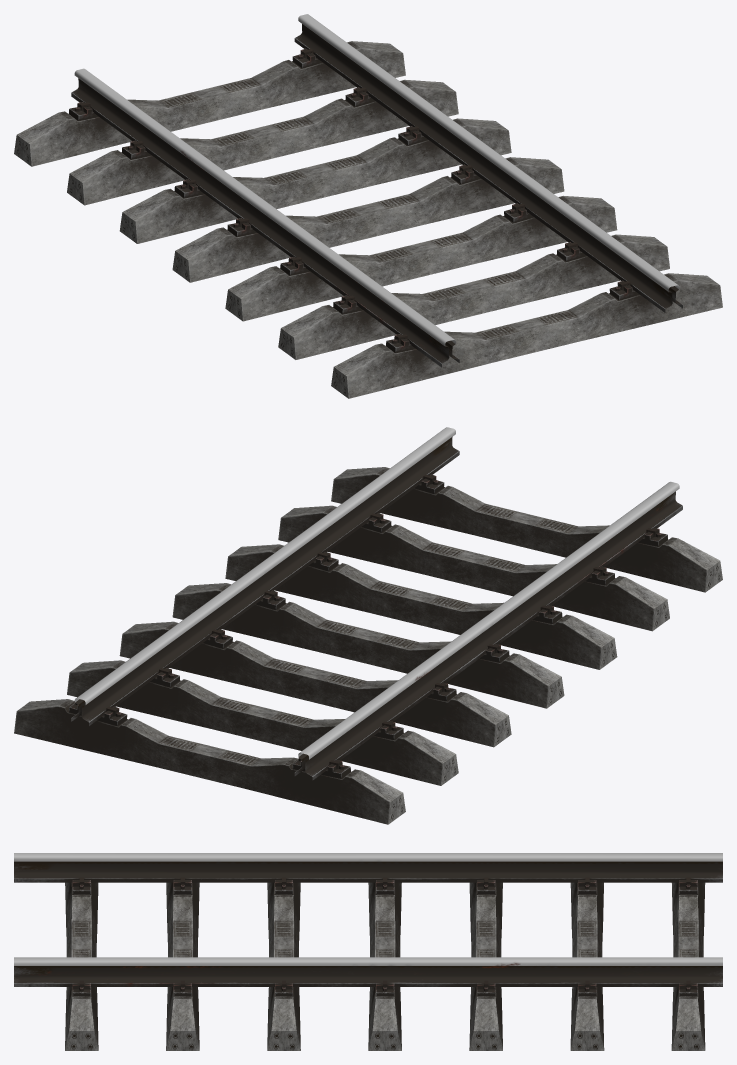
Rendered from railway_track_train_route_railway_parts_rail.glb.
3 views of the same model, one above another, from view 1: azimuth 30°, elevation 25°; view 2: azimuth 150°, elevation 25°; view 3: azimuth 270°, elevation 25° (orthographic). The views are drawn at different scales.
Parts seen in each view (by area): view 1: Object_2; view 2: Object_2; view 3: Object_2.
Boxes of the visible parts, x1,y1,x2,y2 form: Object_2: (14,14,722,398); Object_2: (14,427,722,824); Object_2: (14,853,722,1050).
Size of the model in its own units: 461 by 69.9 by 790.
1 material, 1 textured.
